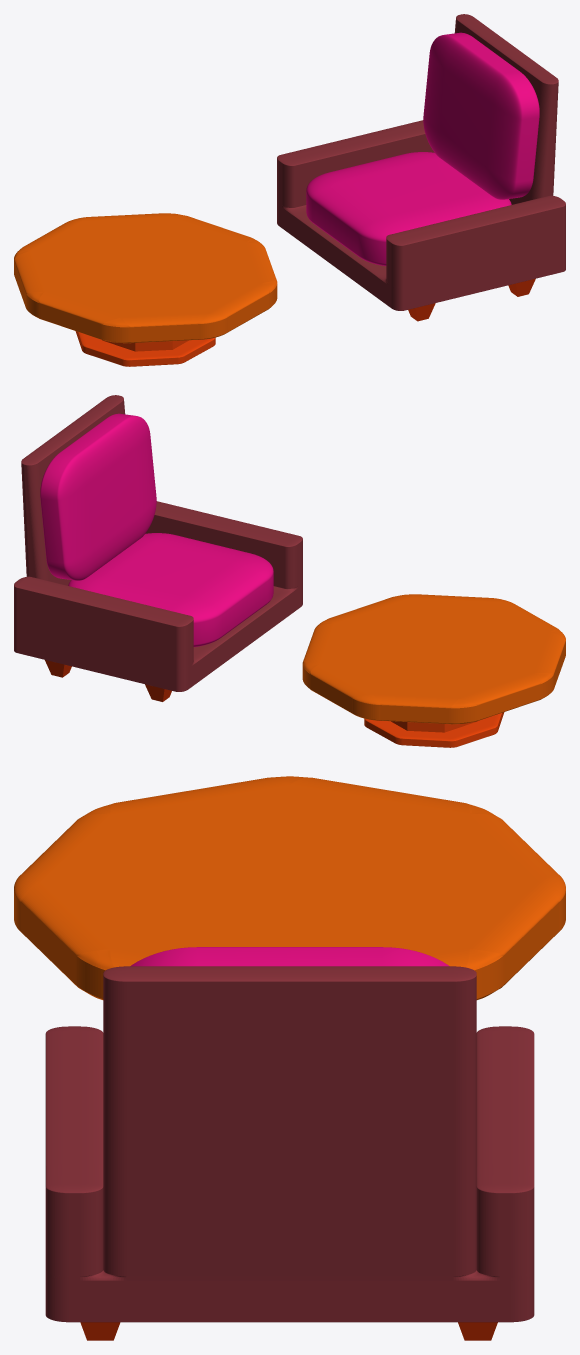
The picture shows the model from 3 angles, top to bottom: view 1: azimuth 30°, elevation 25°; view 2: azimuth 150°, elevation 25°; view 3: azimuth 270°, elevation 25°; orthographic projection. The views are drawn at different scales.
Parts seen in each view (by area): view 1: Cube.002, Cube.001, Cube.003, Cube; view 2: Cube.002, Cube.001, Cube.003, Cube; view 3: Cube.001, Cube.002, Cube.003.
Part boxes in pixels (left/top/right/bottom): Cube.002: left=14, top=213, right=277, bottom=366; Cube.001: left=277, top=14, right=565, bottom=321; Cube.003: left=423, top=32, right=539, bottom=199; Cube: left=306, top=152, right=511, bottom=265; Cube.002: left=302, top=594, right=565, bottom=747; Cube.001: left=14, top=395, right=302, bottom=701; Cube.003: left=40, top=413, right=156, bottom=580; Cube: left=68, top=533, right=273, bottom=646; Cube.001: left=45, top=966, right=534, bottom=1340; Cube.002: left=14, top=776, right=565, bottom=999; Cube.003: left=130, top=947, right=449, bottom=966.
Size of what is drawn, in the model's own units: 5.09 by 2.03 by 2.55.
